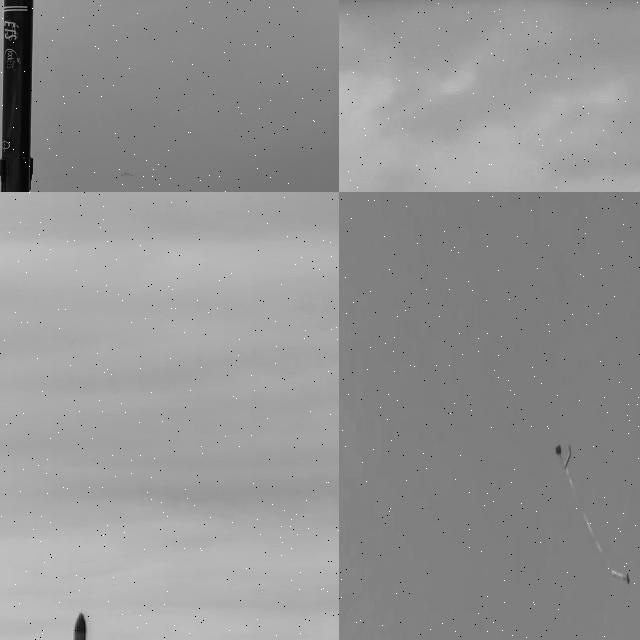Rocket: (0, 0, 34, 192), (57, 611, 94, 640), (612, 571, 630, 585)
